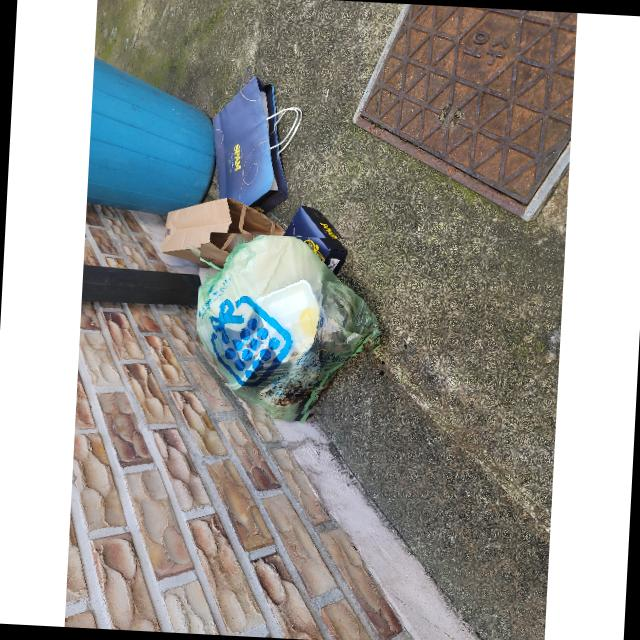general_trashbag: (195, 235, 374, 416)
